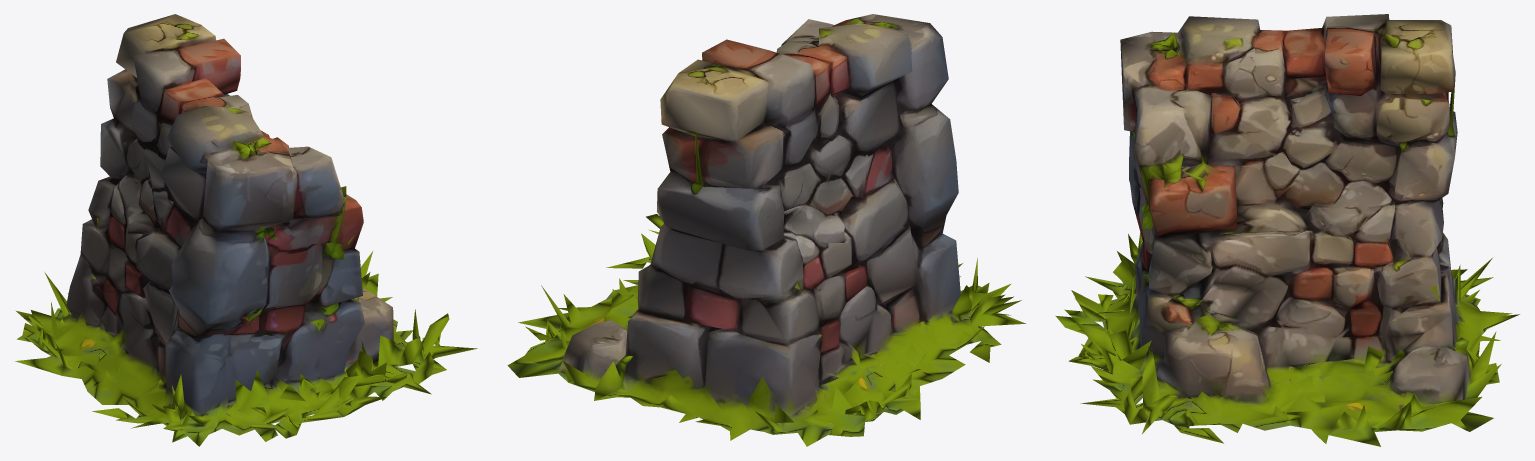
File: decor_wall.glb
3 views of the same model, side by side, from view 1: azimuth 30°, elevation 25°; view 2: azimuth 150°, elevation 25°; view 3: azimuth 270°, elevation 25° (orthographic). The views are drawn at different scales.
Parts seen in each view (by area): view 1: tripo_node_50b44404-e389-4db1-bf41-e3c164923b98; view 2: tripo_node_50b44404-e389-4db1-bf41-e3c164923b98; view 3: tripo_node_50b44404-e389-4db1-bf41-e3c164923b98.
Boxes of the visible parts, box(x1,y1,x2,y2) form: tripo_node_50b44404-e389-4db1-bf41-e3c164923b98: box(15, 14, 477, 446); tripo_node_50b44404-e389-4db1-bf41-e3c164923b98: box(507, 14, 1026, 446); tripo_node_50b44404-e389-4db1-bf41-e3c164923b98: box(1055, 14, 1519, 446).
Size of the model in its own units: 0.996 by 0.7454 by 1.
1 material, 1 textured.
